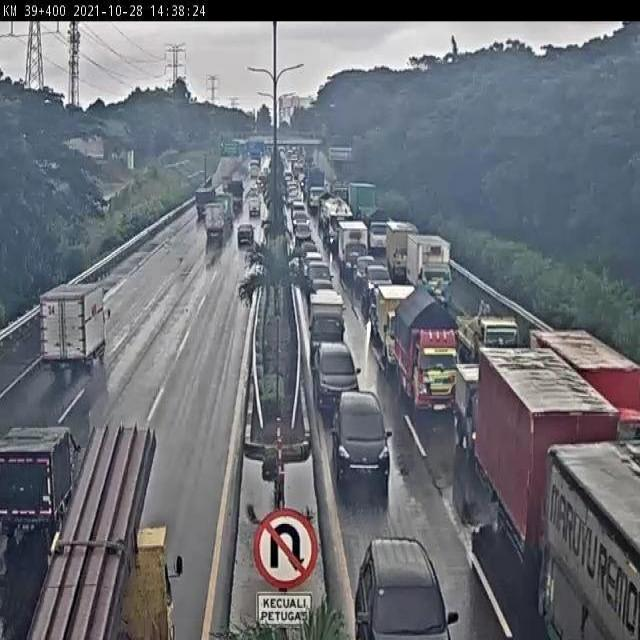big truck: (480, 347, 617, 593), (30, 490, 180, 640), (549, 446, 640, 640), (529, 321, 640, 460), (457, 308, 521, 345)
car: (353, 522, 457, 640), (331, 389, 392, 487), (306, 336, 367, 421), (306, 277, 347, 295), (235, 223, 258, 245), (308, 262, 336, 278)
small truck: (395, 285, 470, 415), (0, 414, 81, 514), (38, 272, 113, 372), (408, 236, 459, 311), (373, 222, 420, 278), (453, 366, 486, 442), (379, 288, 408, 368), (308, 292, 348, 345), (370, 209, 403, 247), (349, 182, 383, 218), (194, 182, 220, 222), (205, 203, 226, 241), (217, 193, 237, 224)
